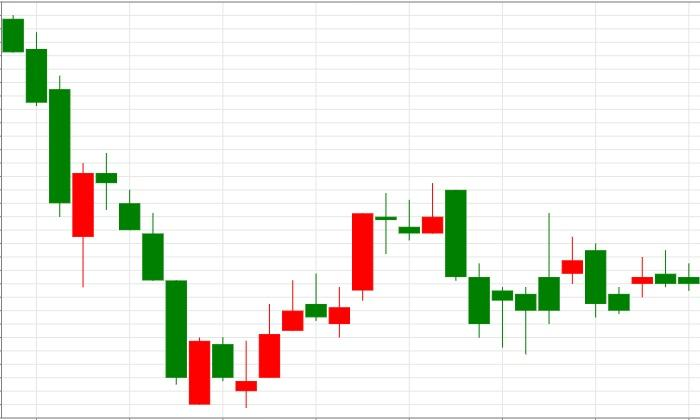morning_star_rise: (96, 152, 281, 409)
